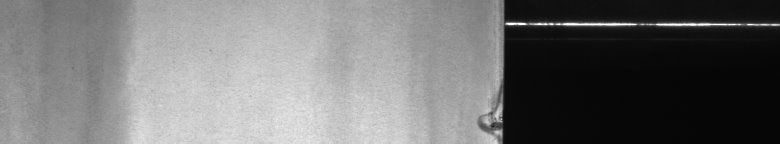hb: (473, 100, 492, 136)
